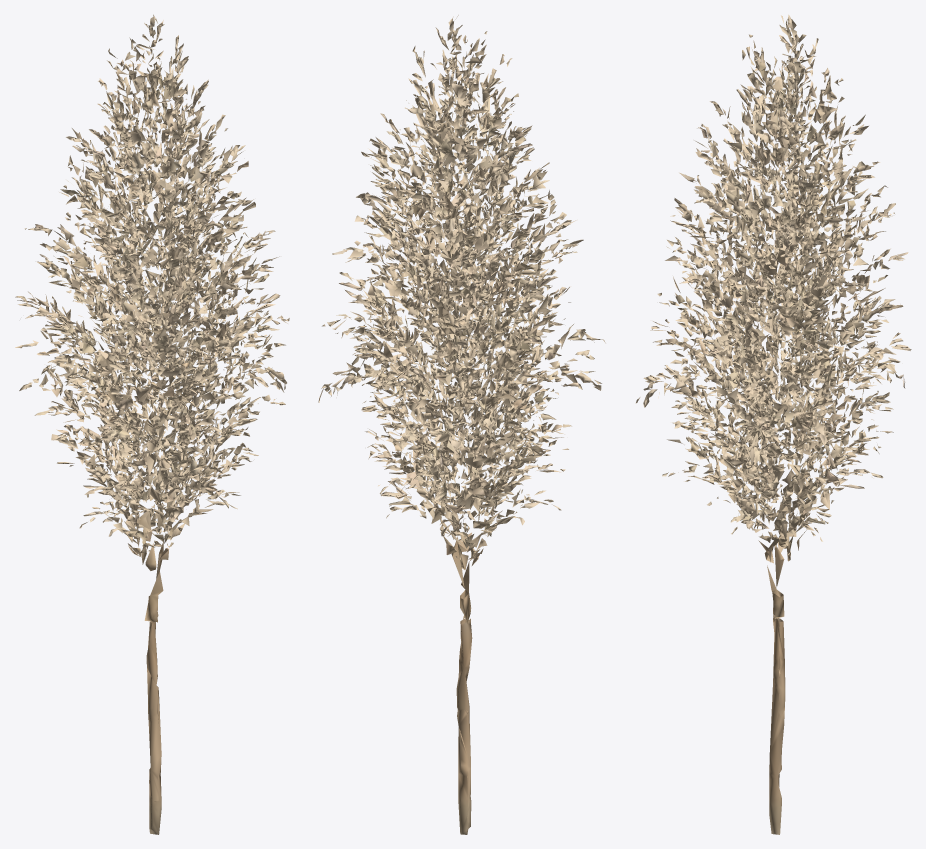
The picture shows the model from 3 angles, left to right: view 1: azimuth 30°, elevation 25°; view 2: azimuth 150°, elevation 25°; view 3: azimuth 270°, elevation 25°; orthographic projection.
Size of the model in its own units: 0.5838 by 1.9 by 0.5788.
1 material, 1 textured.
